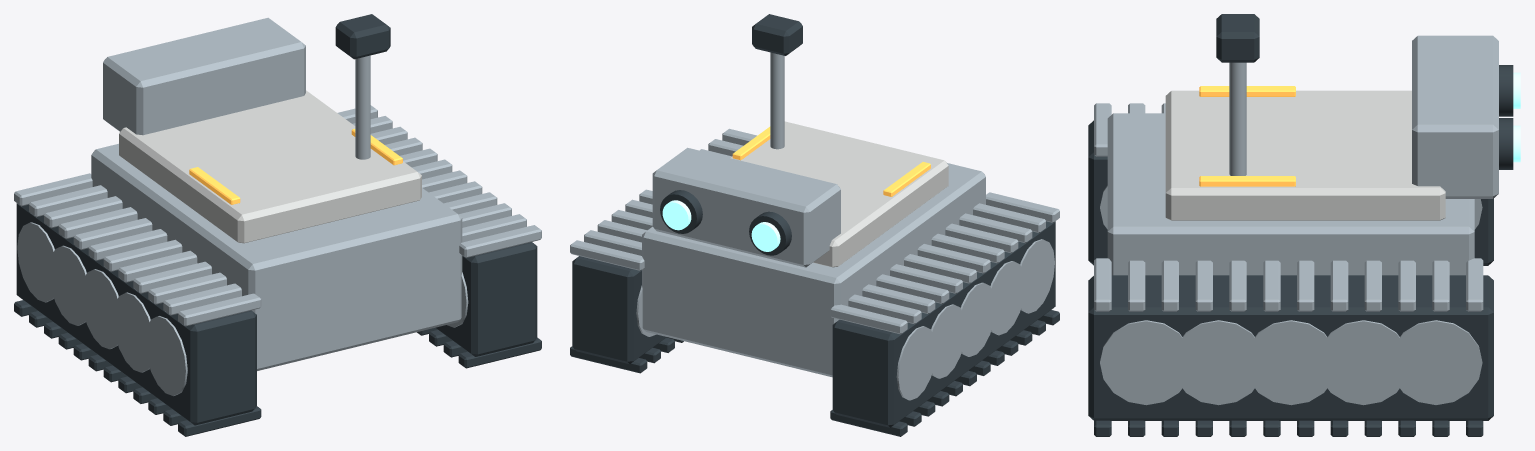
Rendered from exploration_robot.glb.
3 views of the same model, side by side, from view 1: azimuth 30°, elevation 25°; view 2: azimuth 150°, elevation 25°; view 3: azimuth 270°, elevation 25° (orthographic). The views are drawn at different scales.
Parts seen in each view (by area): view 1: chassis, ceramic_top, tread (×20), track_belt (×2), camera_head, roadwheel (×5), sensor, mast, caution; view 2: chassis, track_belt (×2), tread (×18), camera_head, ceramic_top, roadwheel (×5), sensor, optic (×2), mast, optic_glass (×2), caution (×2); view 3: ceramic_top, roadwheel (×5), track_belt (×2), chassis, camera_head, tread (×13), sensor, mast, caution (×2), optic (×2).
Boxes of the visible parts, <box> form: chassis: <box>91,143,462,370</box>; ceramic_top: <box>119,90,421,243</box>; tread (×20): <box>14,170,541,436</box>; track_belt (×2): <box>16,203,537,425</box>; camera_head: <box>103,17,305,135</box>; roadwheel (×5): <box>17,222,187,395</box>; sensor: <box>335,14,390,59</box>; mast: <box>355,55,370,159</box>; caution: <box>189,167,240,204</box>; chassis: <box>642,163,985,377</box>; track_belt (×2): <box>572,221,1055,427</box>; tread (×18): <box>570,192,1059,436</box>; camera_head: <box>652,147,840,267</box>; ceramic_top: <box>730,121,948,267</box>; roadwheel (×5): <box>896,239,1054,400</box>; sensor: <box>752,14,802,55</box>; optic (×2): <box>660,190,791,255</box>; mast: <box>770,52,784,149</box>; optic_glass (×2): <box>662,200,780,251</box>; caution (×2): <box>732,126,930,196</box>; ceramic_top: <box>1165,90,1445,220</box>; roadwheel (×5): <box>1100,320,1482,405</box>; track_belt (×2): <box>1088,120,1493,420</box>; chassis: <box>1107,113,1474,275</box>; camera_head: <box>1412,35,1498,198</box>; tread (×13): <box>1094,103,1483,311</box>; sensor: <box>1216,14,1259,62</box>; mast: <box>1229,62,1246,175</box>; caution (×2): <box>1199,86,1295,186</box>; optic (×2): <box>1499,65,1513,169</box>.
Bounding box in the file's own units: 0.485 × 0.4005 × 0.4475.
